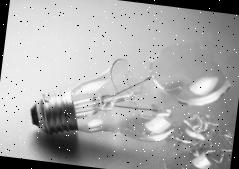lightbulb: (28, 46, 184, 148), (146, 34, 236, 110)
